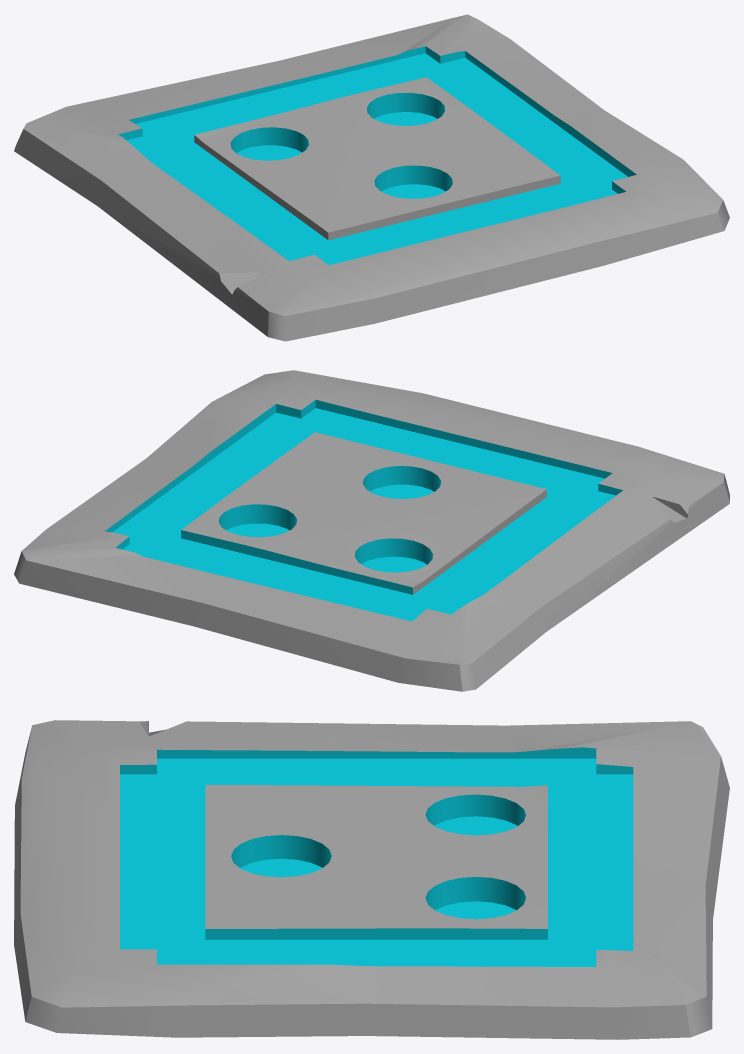
Rendered from dalle23.fbx.
The picture shows the model from 3 angles, top to bottom: view 1: azimuth 30°, elevation 25°; view 2: azimuth 150°, elevation 25°; view 3: azimuth 270°, elevation 25°; orthographic projection. The views are drawn at different scales.
Parts seen in each view (by area): view 1: pCube4; view 2: pCube4; view 3: pCube4.
Boxes of the visible parts, bbox=[...] form: pCube4: bbox=[14, 14, 729, 341]; pCube4: bbox=[14, 370, 729, 691]; pCube4: bbox=[14, 720, 729, 1039].
Size of the model in its own units: 6.99 by 0.4395 by 7.18.
